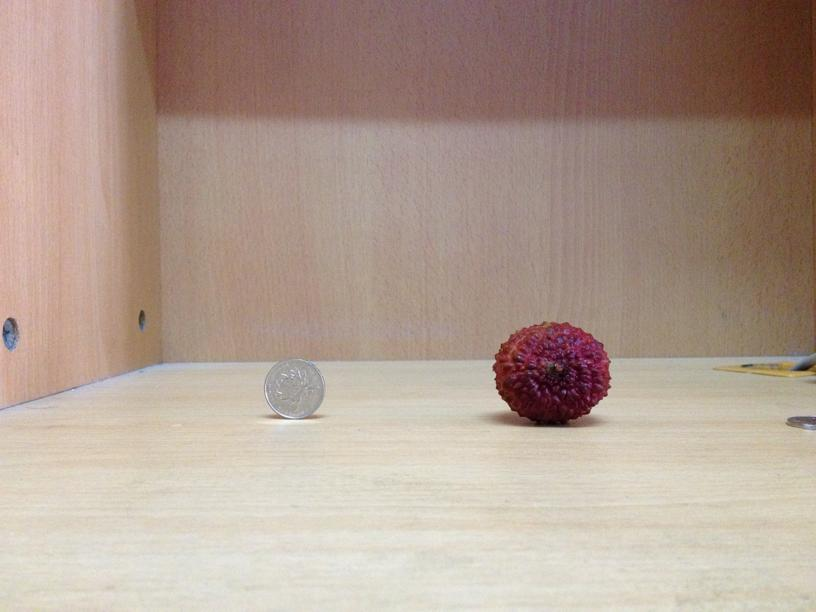coin: (263, 357, 325, 418)
litchi: (491, 323, 609, 421)
